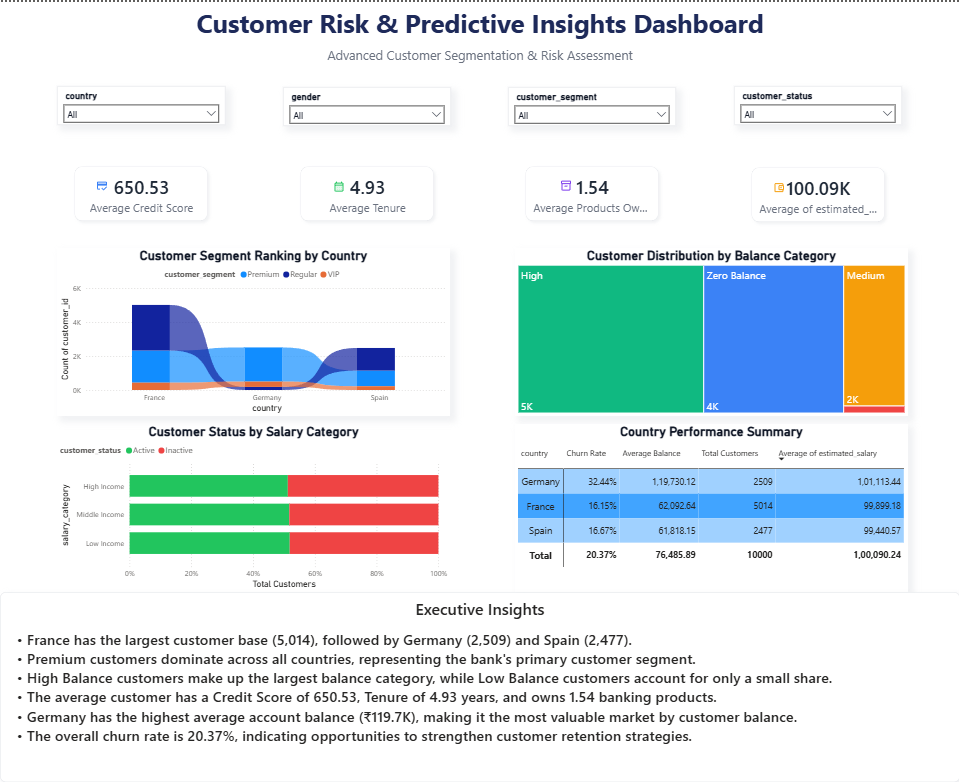

The page's visual inventory and layout, read from the dashboard file:
{"tool":"powerbi","page":{"name":"Customer Risk & Predictive Insights Dashboard","canvas":[1600,1300],"ordinal":4},"visuals":[{"type":"textbox","box":[0,0,1600,68.6],"z":0},{"type":"group","id":"g1","title":"Group 2","box":[95.7,244.3,280.3,149.2],"z":1000},{"type":"cardVisual","fields":{"Data":["Avg(customers_processed.credit_score)"]},"box":[95.7,244.3,280.3,149.2],"z":1000,"group":"g8"},{"type":"cardVisual","fields":{"Data":["Avg(customers_processed.tenure)"]},"box":[471.4,245.7,280.3,149.2],"z":1000,"group":"g2"},{"type":"cardVisual","fields":{"Data":["Avg(customers_processed.products)"]},"box":[847.1,245.7,280.3,149.2],"z":1000,"group":"g3"},{"type":"slicer","fields":{"Values":["customers_processed.country"]},"box":[95.7,140.7,281.2,65],"z":2000,"group":"g5"},{"type":"group","id":"g2","title":"Group 5","box":[471.4,245.7,280.3,149.2],"z":2000,"group":"g7"},{"type":"cardVisual","fields":{"Data":["Avg(customers_processed.estimated_salary)"]},"box":[1223.8,246.2,280.3,149.2],"z":2000},{"type":"textbox","box":[0,68.6,1600,58.6],"z":3000},{"type":"slicer","fields":{"Values":["customers_processed.gender"]},"box":[471.7,141.2,280,65],"z":3000,"group":"g5"},{"type":"group","id":"g3","title":"Group 5","box":[847.1,245.7,280.3,149.2],"z":3000,"group":"g6"},{"type":"group","id":"g4","title":"Group 4","box":[471.4,245.7,280.3,149.2],"z":4000},{"type":"group","id":"g5","title":"Group 1","box":[95.7,140,1408,66.2],"z":5000},{"type":"slicer","fields":{"Values":["customers_processed.customer_status"]},"box":[1223.7,140,280,65],"z":5000,"group":"g5"},{"type":"group","id":"g6","title":"Group 6","box":[847.1,245.7,280.3,149.2],"z":6000},{"type":"image","box":[160,294.3,20,22.9],"z":6000,"group":"g8"},{"type":"hundredPercentStackedBarChart","title":"Customer Status by Salary Category","fields":{"Category":["customers_processed.salary_category"],"Y":["customers_processed.Total Customers"],"Series":["customers_processed.customer_status"]},"box":[94.3,702.9,655.7,280],"z":7000},{"type":"slicer","fields":{"Values":["customers_processed.customer_segment"]},"box":[847.7,141.2,280,65],"z":8000,"group":"g5"},{"type":"treemap","title":"Customer Distribution by Balance Category","fields":{"Values":["customers_processed.Total Customers"],"Group":["customers_processed.balance_category"]},"box":[858.6,410,655,280],"z":8000},{"type":"image","box":[554.6,297.3,20,22.5],"z":9000,"group":"g7"},{"type":"ribbonChart","title":"Customer Segment Ranking by Country","fields":{"Category":["customers_processed.country"],"Y":["CountNonNull(customers_processed.customer_id)"],"Series":["customers_processed.customer_segment"]},"box":[95,410,655,280],"z":9000},{"type":"image","box":[934.4,296.1,20,22.5],"z":10000,"group":"g6"},{"type":"pivotTable","title":"Country Performance Summary","fields":{"Rows":["customers_processed.country"],"Values":["customers_processed.Churn Rate","customers_processed.Average Balance","customers_processed.Total Customers","Avg(customers_processed.estimated_salary)"]},"box":[858.3,703.3,655,280],"z":10000},{"type":"image","box":[1287.5,297.5,20,22.5],"z":11000},{"type":"group","id":"g7","title":"Group 7","box":[471.4,245.7,280.3,149.2],"z":11001,"group":"g4"},{"type":"textbox","box":[0,982.9,1600,317.1],"z":12000},{"type":"group","id":"g8","title":"Group 3","box":[95.7,244.3,280.3,149.2],"z":13001,"group":"g1"}]}

Visuals, with their boxes in screenshot pixels (x1, y1, x2, y2), scaled from the page's 1600x1300 canvas onto the 959x782 screenshot:
textbox: <region>0, 0, 958, 41</region>
"Group 2" group: <region>57, 147, 225, 237</region>
cardVisual - Avg(customers_processed.credit_score): <region>57, 147, 225, 237</region>
cardVisual - Avg(customers_processed.tenure): <region>283, 148, 451, 238</region>
cardVisual - Avg(customers_processed.products): <region>508, 148, 676, 238</region>
slicer - customers_processed.country: <region>57, 85, 226, 124</region>
"Group 5" group: <region>283, 148, 451, 238</region>
cardVisual - Avg(customers_processed.estimated_salary): <region>734, 148, 902, 238</region>
textbox: <region>0, 41, 958, 77</region>
slicer - customers_processed.gender: <region>283, 85, 451, 124</region>
"Group 5" group: <region>508, 148, 676, 238</region>
"Group 4" group: <region>283, 148, 451, 238</region>
"Group 1" group: <region>57, 84, 901, 124</region>
slicer - customers_processed.customer_status: <region>733, 84, 901, 123</region>
"Group 6" group: <region>508, 148, 676, 238</region>
image: <region>96, 177, 108, 191</region>
"Customer Status by Salary Category" hundredPercentStackedBarChart: <region>57, 423, 450, 591</region>
slicer - customers_processed.customer_segment: <region>508, 85, 676, 124</region>
"Customer Distribution by Balance Category" treemap: <region>515, 247, 907, 415</region>
image: <region>332, 179, 344, 192</region>
"Customer Segment Ranking by Country" ribbonChart: <region>57, 247, 450, 415</region>
image: <region>560, 178, 572, 192</region>
"Country Performance Summary" pivotTable: <region>514, 423, 907, 591</region>
image: <region>772, 179, 784, 192</region>
"Group 7" group: <region>283, 148, 451, 238</region>
textbox: <region>0, 591, 958, 781</region>
"Group 3" group: <region>57, 147, 225, 237</region>
